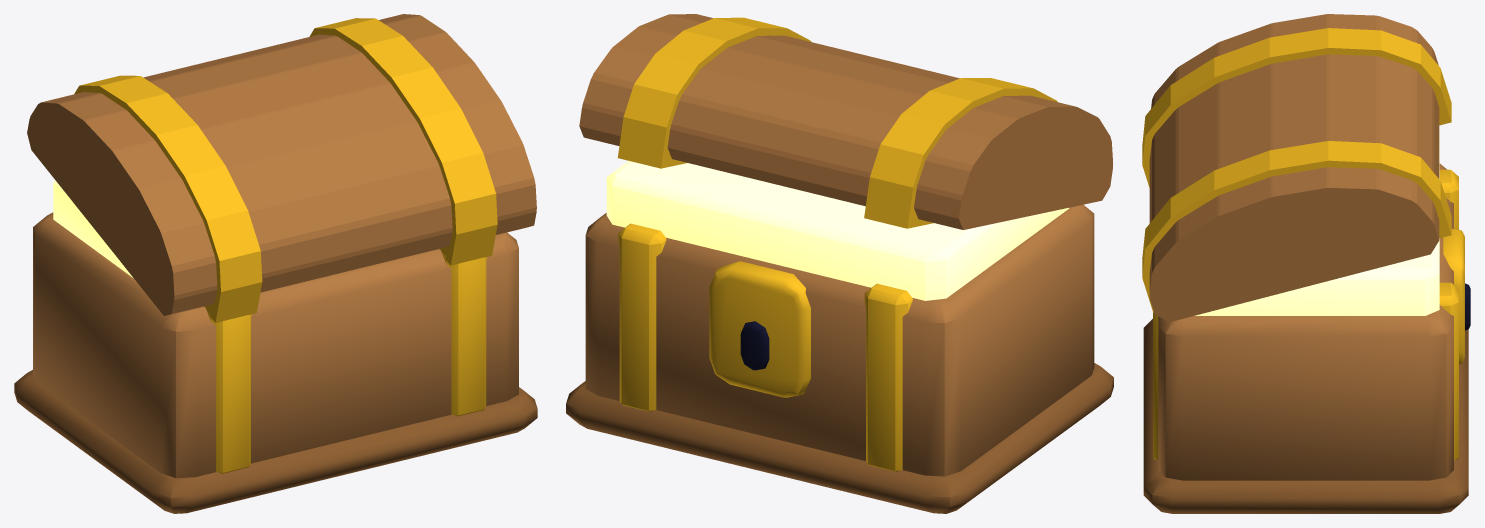
File: Hub_DailyChest.glb
The picture shows the model from 3 angles, left to right: view 1: azimuth 30°, elevation 25°; view 2: azimuth 150°, elevation 25°; view 3: azimuth 270°, elevation 25°; orthographic projection. The views are drawn at different scales.
Parts seen in each view (by area): view 1: Wood_B5793F (×2), Gold_FFC21A (×2), Base_8A5A2B, Glow_FFF27A; view 2: Wood_B5793F (×2), Gold_FFC21A (×2), Glow_FFF27A, Base_8A5A2B, Keyhole_0D0F2B; view 3: Wood_B5793F (×2), Gold_FFC21A (×2), Base_8A5A2B, Glow_FFF27A.
Boxes of the visible parts, <box> form: Wood_B5793F (×2): <box>27,14,536,478</box>; Gold_FFC21A (×2): <box>74,18,497,473</box>; Base_8A5A2B: <box>14,370,537,513</box>; Glow_FFF27A: <box>53,180,133,278</box>; Wood_B5793F (×2): <box>579,14,1113,476</box>; Gold_FFC21A (×2): <box>617,17,1057,471</box>; Glow_FFF27A: <box>606,161,1069,300</box>; Base_8A5A2B: <box>566,363,1113,513</box>; Keyhole_0D0F2B: <box>740,321,769,370</box>; Wood_B5793F (×2): <box>1149,14,1453,480</box>; Gold_FFC21A (×2): <box>1142,28,1464,459</box>; Base_8A5A2B: <box>1143,319,1468,513</box>; Glow_FFF27A: <box>1194,131,1439,315</box>.
Size of the model in its own units: 6 by 5.1 by 4.55.
